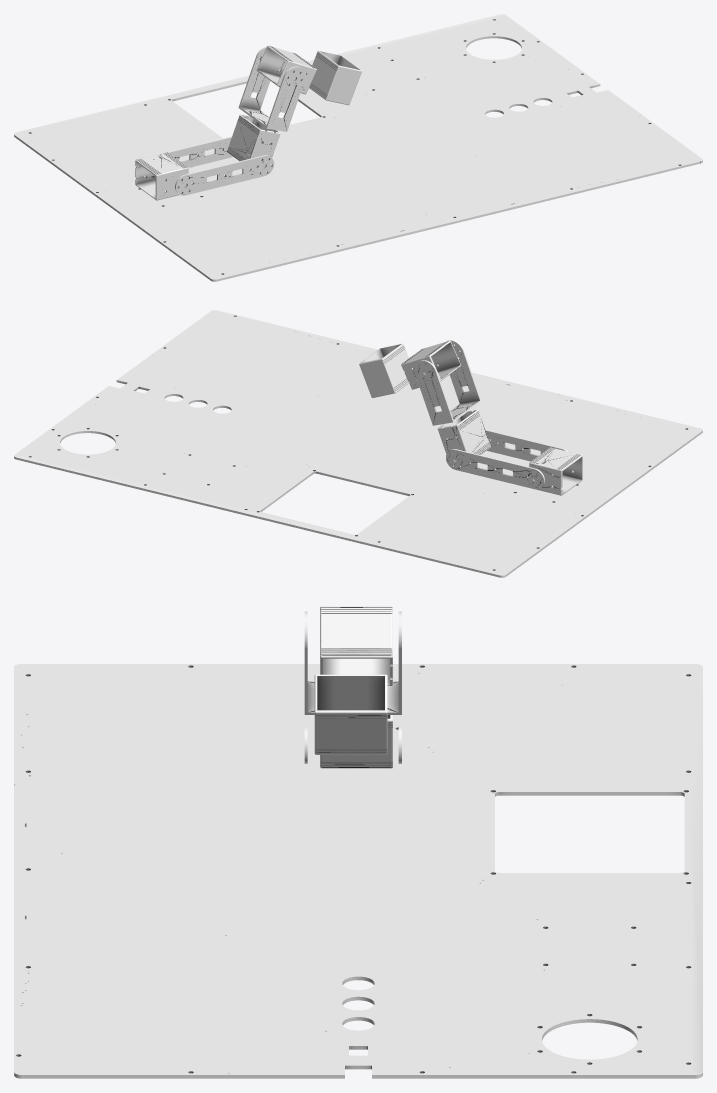
File: equipment-self-ao.glb
3 views of the same model, one above another, from view 1: azimuth 30°, elevation 25°; view 2: azimuth 150°, elevation 25°; view 3: azimuth 270°, elevation 25° (orthographic). The views are drawn at different scales.
Visible parts, largest first — view 1: work_panel, gripper_servo_metal_housing, lower_arm_plate_1, base_servo_metal_housing, mid__lower_servo_metal_housing, mid__yoke_side_1, mid__upper_servo_metal_housing, mid__yoke_side_-1, lower_arm_plate_-1; view 2: work_panel, lower_arm_plate_-1, gripper_servo_metal_housing, base_servo_metal_housing, mid__lower_servo_metal_housing, mid__yoke_side_-1, mid__upper_servo_metal_housing, mid__yoke_side_1, lower_arm_plate_1; view 3: work_panel, gripper_servo_metal_housing, mid__upper_servo_metal_housing, mid__lower_servo_metal_housing, mid__yoke_side_-1.
Boxes of the visible parts, <box> form: work_panel: <box>14,14,702,281</box>; gripper_servo_metal_housing: <box>309,50,361,105</box>; lower_arm_plate_1: <box>175,155,274,195</box>; base_servo_metal_housing: <box>135,152,188,200</box>; mid__lower_servo_metal_housing: <box>227,114,280,167</box>; mid__yoke_side_1: <box>251,66,305,131</box>; mid__upper_servo_metal_housing: <box>256,45,316,94</box>; mid__yoke_side_-1: <box>238,46,270,118</box>; lower_arm_plate_-1: <box>167,136,232,167</box>; work_panel: <box>14,310,702,577</box>; lower_arm_plate_-1: <box>446,449,544,489</box>; gripper_servo_metal_housing: <box>359,343,412,397</box>; base_servo_metal_housing: <box>529,447,582,495</box>; mid__lower_servo_metal_housing: <box>437,410,490,465</box>; mid__yoke_side_-1: <box>414,360,466,425</box>; mid__upper_servo_metal_housing: <box>401,340,461,389</box>; mid__yoke_side_1: <box>447,340,481,413</box>; lower_arm_plate_1: <box>485,429,567,461</box>; work_panel: <box>14,664,702,1078</box>; gripper_servo_metal_housing: <box>314,674,387,754</box>; mid__upper_servo_metal_housing: <box>320,606,392,685</box>; mid__lower_servo_metal_housing: <box>320,715,392,768</box>; mid__yoke_side_-1: <box>387,611,401,714</box>.
Size of the model in its own units: 0.61 by 0.1377 by 0.432.
9 materials, 9 textured.
